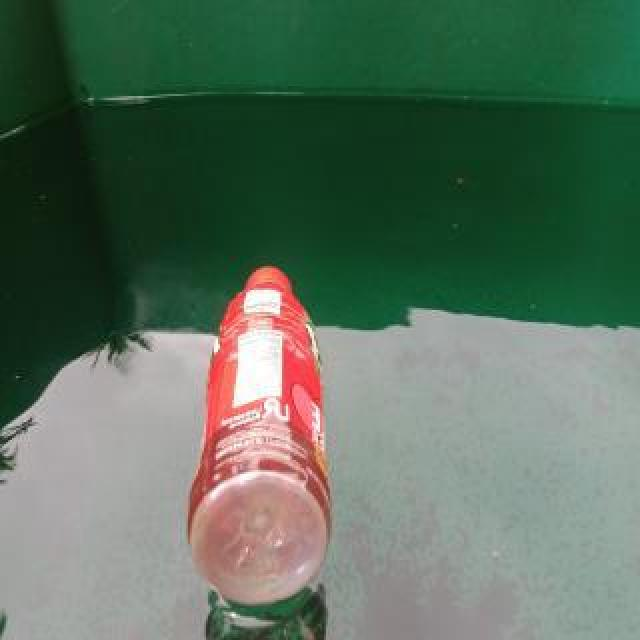Bottle: (180, 258, 342, 618)
